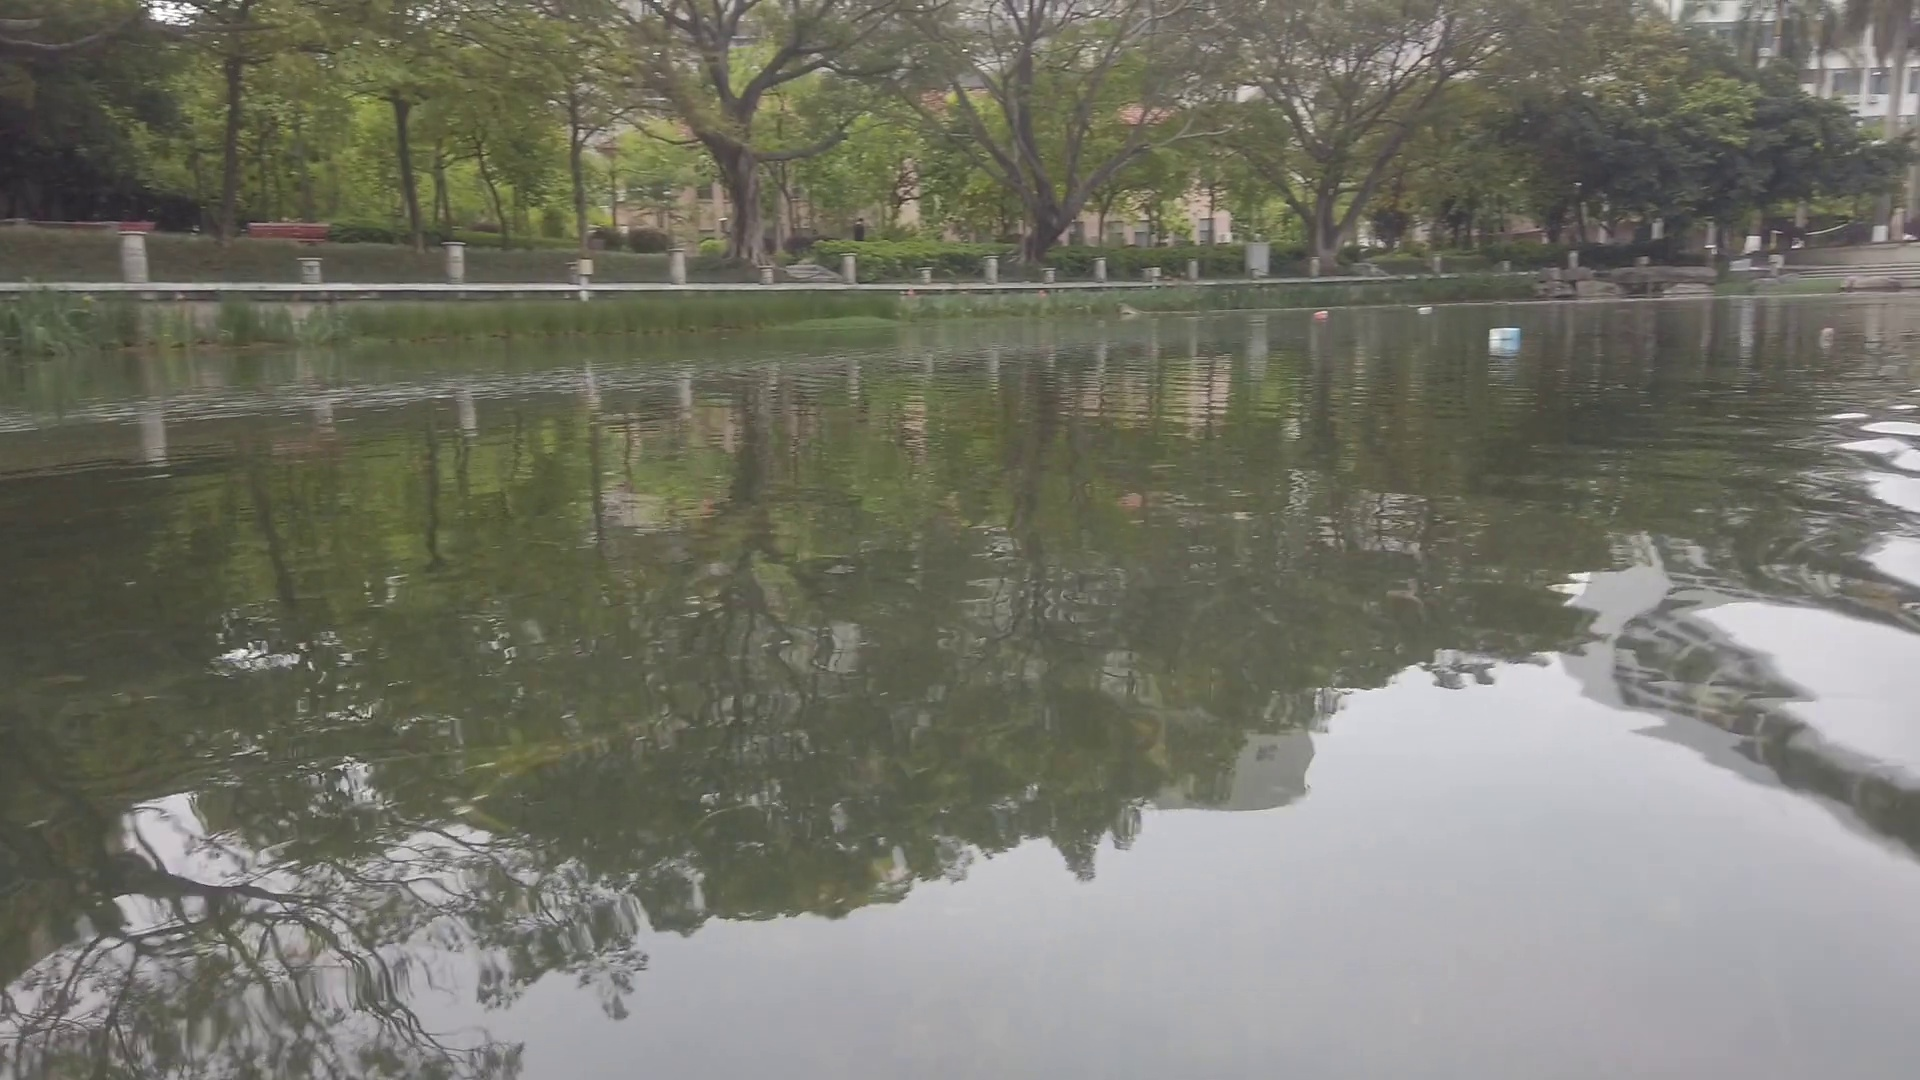bottle: (1415, 305, 1436, 314), (1312, 309, 1328, 318)
carton: (1487, 327, 1520, 340)
